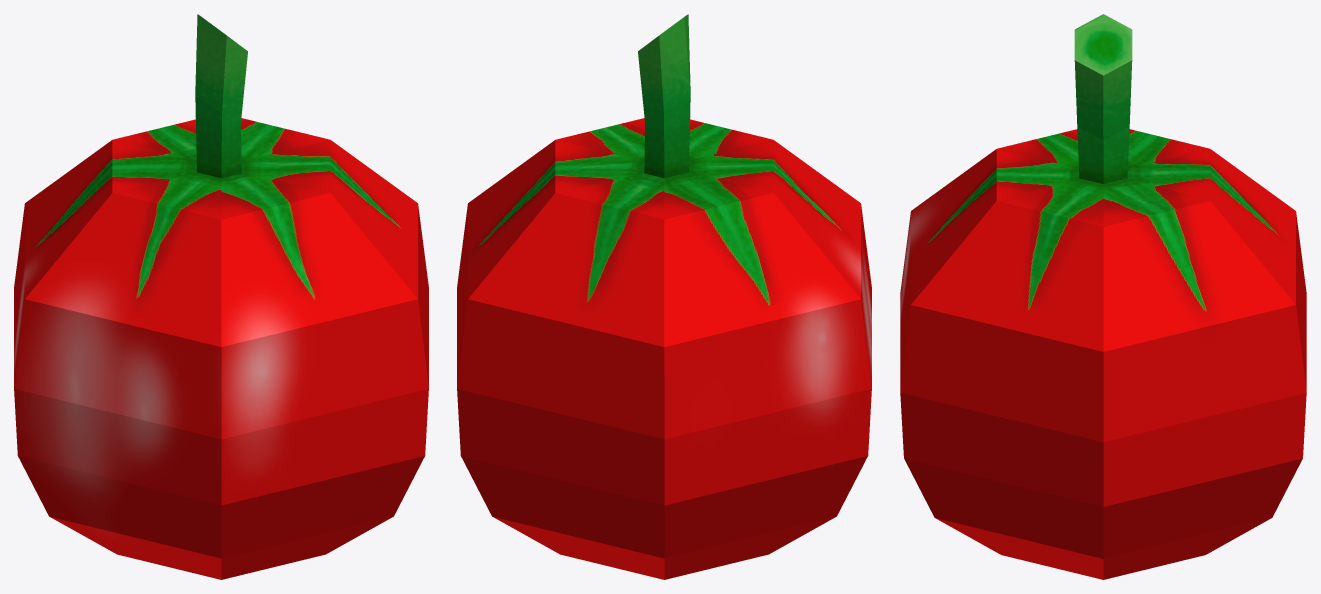
Rendered from tomate_textura.fbx.
The picture shows the model from 3 angles, left to right: view 1: azimuth 30°, elevation 25°; view 2: azimuth 150°, elevation 25°; view 3: azimuth 270°, elevation 25°; orthographic projection. The views are drawn at different scales.
Visible parts, largest first — view 1: Cylinder001; view 2: Cylinder001; view 3: Cylinder001.
Part boxes in pixels (bbox=[...]): Cylinder001: bbox=[14, 14, 428, 579]; Cylinder001: bbox=[457, 14, 871, 579]; Cylinder001: bbox=[900, 14, 1306, 579].
Size of the model in its own units: 40.96 by 48.78 by 35.47.
Materials: 1 (1 with a texture image).
